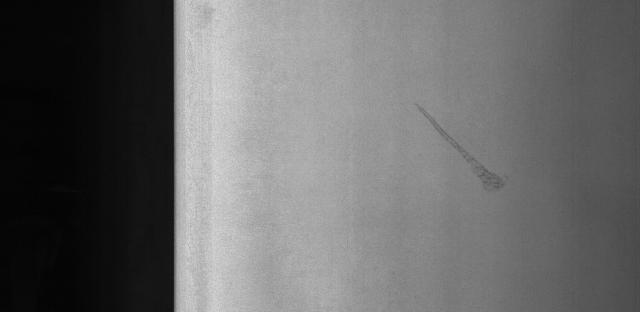water_spot: (406, 95, 531, 207)
